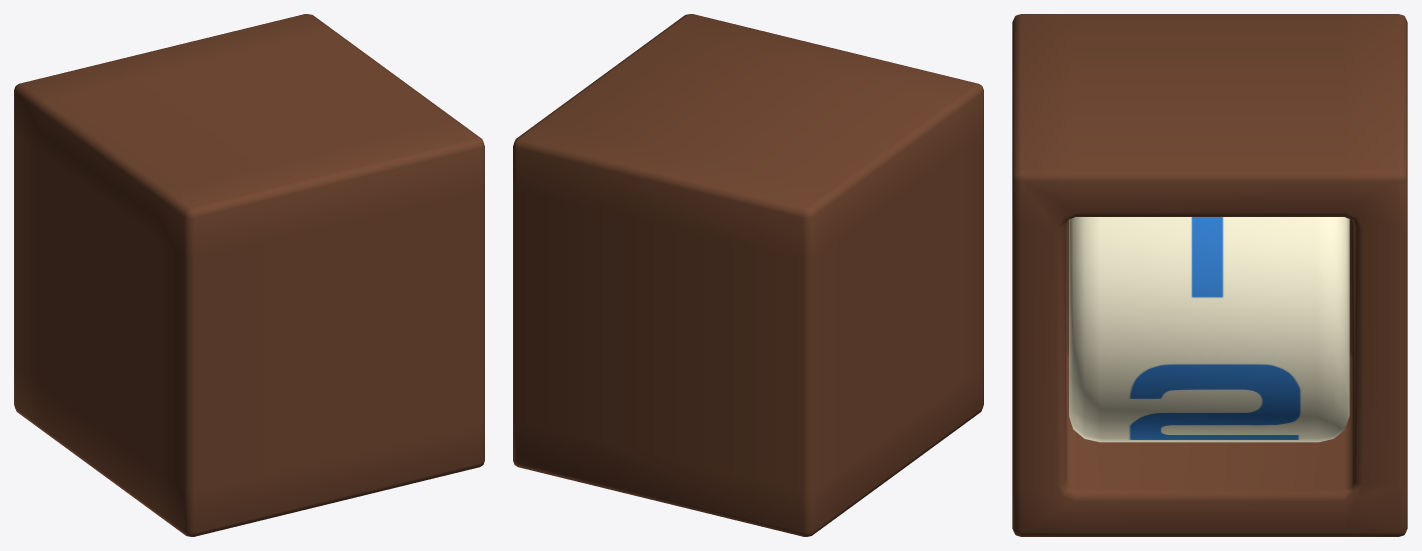
File: barabanSMALL.fbx
3 views of the same model, side by side, from view 1: azimuth 30°, elevation 25°; view 2: azimuth 150°, elevation 25°; view 3: azimuth 270°, elevation 25° (orthographic). The views are drawn at different scales.
Parts seen in each view (by area): view 1: korobka small baraban; view 2: korobka small baraban; view 3: korobka small baraban, small baraban.
Part boxes in pixels (x1,y1,x2,y2): korobka small baraban: (14,14,484,536); korobka small baraban: (513,14,983,536); korobka small baraban: (1012,14,1407,536); small baraban: (1069,217,1349,442).
Size of the model in its own units: 131 by 137 by 133.
Materials: 2 (1 with a texture image).
